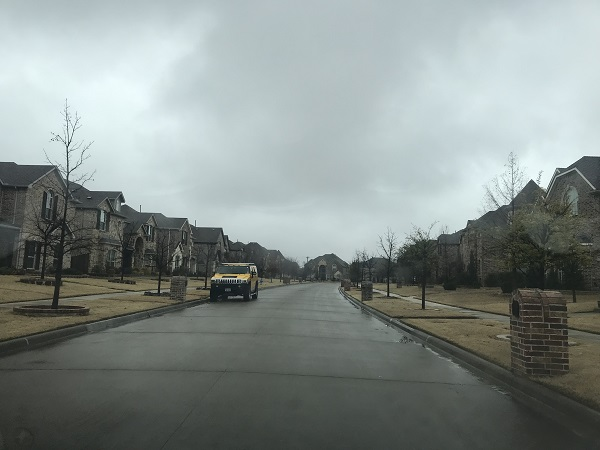car: (209, 258, 259, 300)
